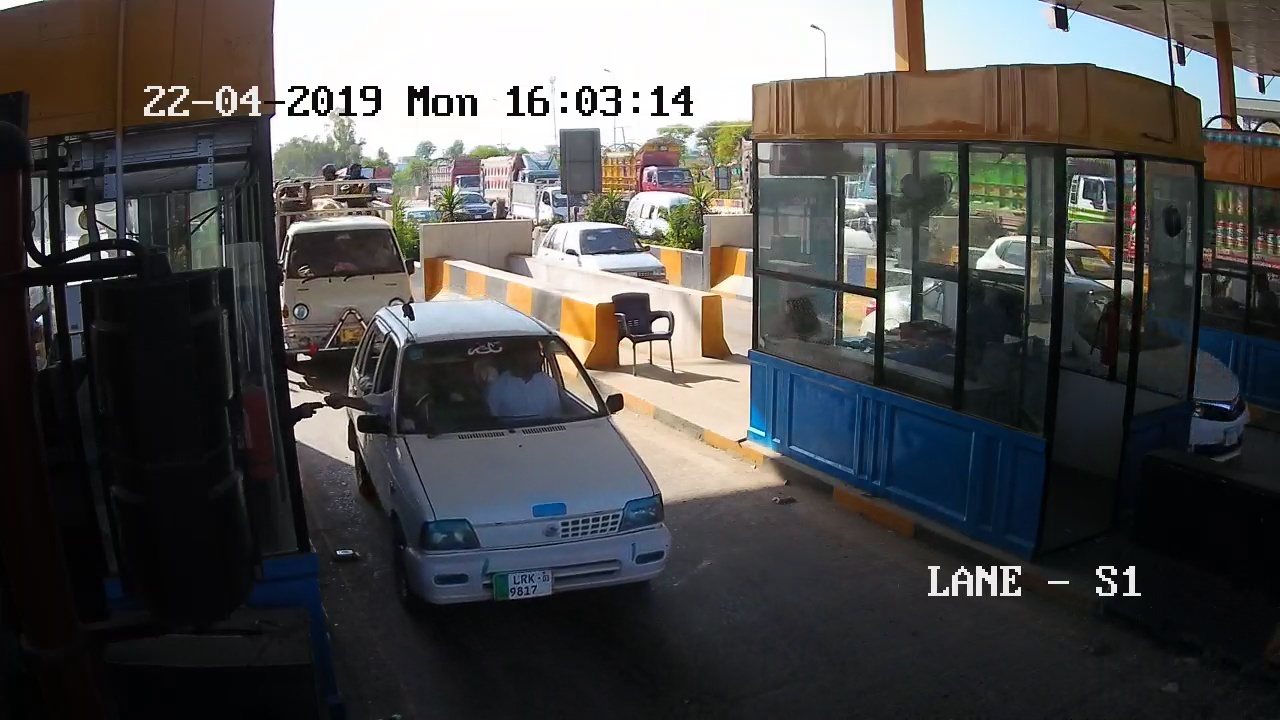Number Plate (Car): (490, 572, 557, 603), (338, 328, 362, 341)
